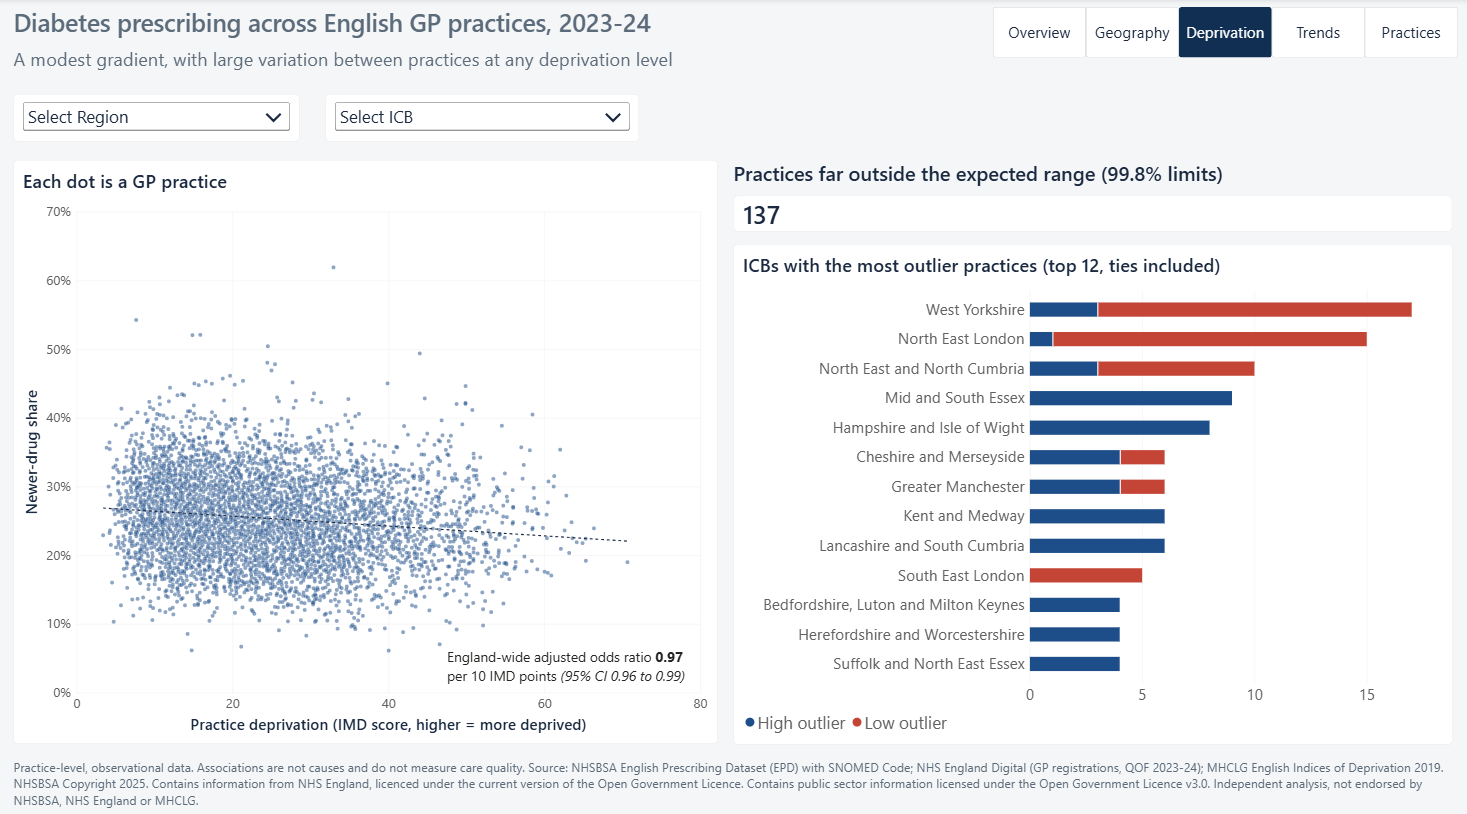

The page's visual inventory and layout, read from the dashboard file:
{"tool":"powerbi","page":{"name":"Deprivation","canvas":[2560,1440],"ordinal":2},"visuals":[{"type":"listSlicer","fields":{"Values":["dashboard_icb.region"]},"box":[24,168,498.7,82.7],"z":0},{"type":"listSlicer","fields":{"Values":["dashboard_icb.icb_short"]},"box":[566.6,166.8,546.5,83.4],"z":1000},{"type":"pageNavigator","box":[1731,15.7,813,88],"z":2000},{"type":"textbox","box":[24,13.3,1226.7,69.3],"z":3000},{"type":"textbox","box":[24,82.7,1192,58.7],"z":4000},{"type":"textbox","box":[23.3,1326.5,2510.5,90.2],"z":5000},{"type":"scatterChart","title":"Each dot is a GP practice","fields":{"Category":["dashboard_practice.practice_code"],"X":["Avg(dashboard_practice.imd_score)"],"Y":["Avg(dashboard_practice.newer_share)"]},"box":[23.3,282.2,1227.6,1018.2],"z":6000},{"type":"textbox","box":[779.3,1132.3,436.7,65.4],"z":7000},{"type":"cardVisual","title":"Practices far outside the expected range (99.8% limits)","fields":{"Data":["_Measures.Outlier Practices"]},"box":[1280,282.2,1253.8,125.1],"z":8000},{"type":"barChart","title":"ICBs with the most outlier practices (top 12, ties included)","fields":{"Category":["dashboard_practice.icb_short"],"Series":["dashboard_practice.outlier_status"],"Y":["_Measures.Practices"]},"box":[1280,427.6,1253.8,872.7],"z":9000}]}

Visuals, with their boxes in screenshot pixels (x1, y1, x2, y2), scaled from the page's 2560x1440 canvas onto the 1467x814 screenshot:
listSlicer - dashboard_icb.region: [14, 95, 300, 142]
listSlicer - dashboard_icb.icb_short: [325, 94, 638, 141]
pageNavigator: [992, 9, 1458, 59]
textbox: [14, 8, 717, 47]
textbox: [14, 47, 697, 80]
textbox: [13, 750, 1452, 801]
"Each dot is a GP practice" scatterChart: [13, 160, 717, 735]
textbox: [447, 640, 697, 677]
"Practices far outside the expected range (99.8% limits)" cardVisual: [734, 160, 1452, 230]
"ICBs with the most outlier practices (top 12, ties included)" barChart: [734, 242, 1452, 735]
